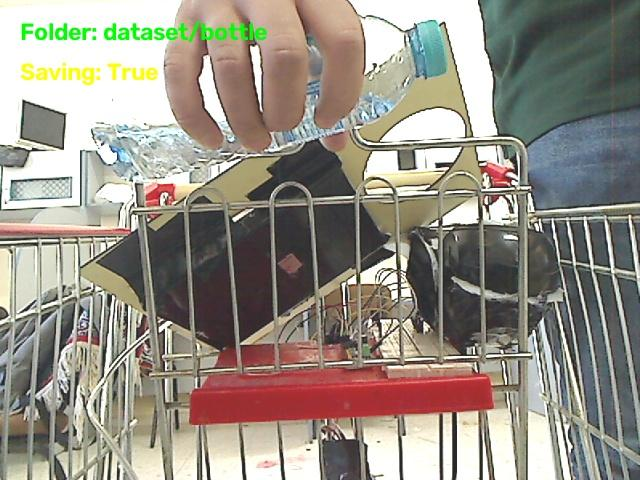can: (203, 2, 273, 149), (245, 2, 308, 139)
